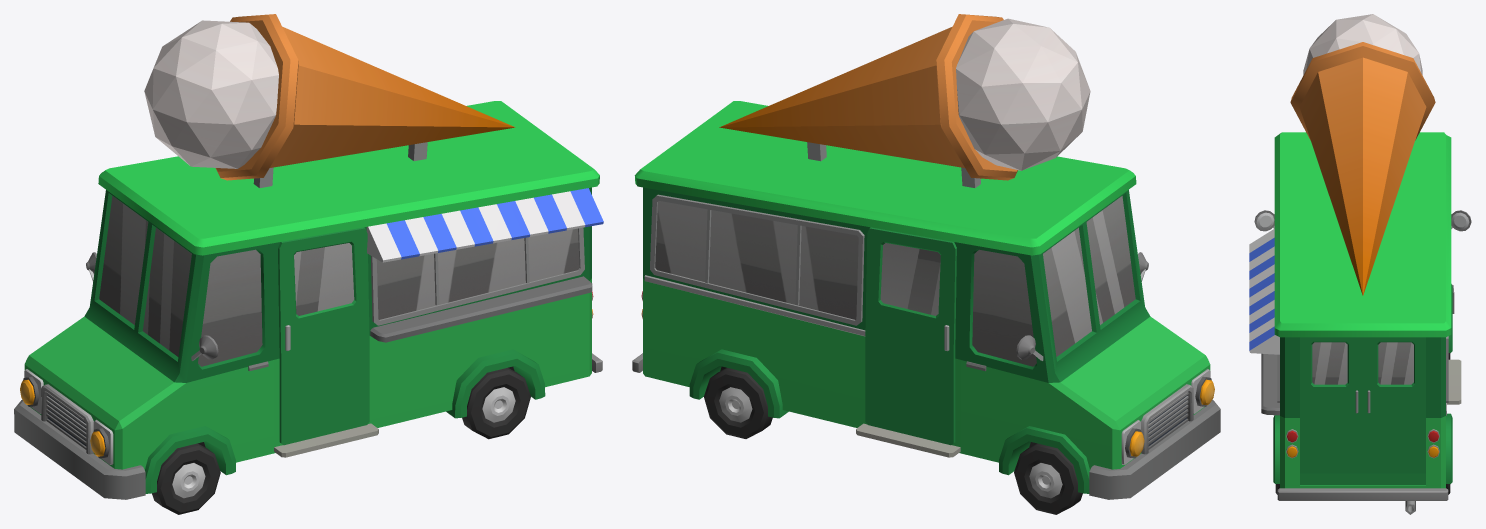
The model's file is IceTruck_2_G.gltf.
The picture shows the model from 3 angles, left to right: view 1: azimuth 30°, elevation 25°; view 2: azimuth 150°, elevation 25°; view 3: azimuth 270°, elevation 25°; orthographic projection. The views are drawn at different scales.
Parts seen in each view (by area): view 1: IceTruck_2_G, RL, FL; view 2: IceTruck_2_G, FR, RR; view 3: IceTruck_2_G.
Boxes of the visible parts, x1,y1,x2,y2 form: IceTruck_2_G: (14, 14, 603, 499); RL: (462, 367, 530, 439); FL: (152, 443, 220, 514); IceTruck_2_G: (632, 14, 1220, 499); FR: (1014, 443, 1082, 514); RR: (704, 368, 772, 438); IceTruck_2_G: (1249, 14, 1471, 514).
Bounding box in the file's own units: 4.16 × 3.43 × 1.84.
Materials: 4 (4 with a texture image).
